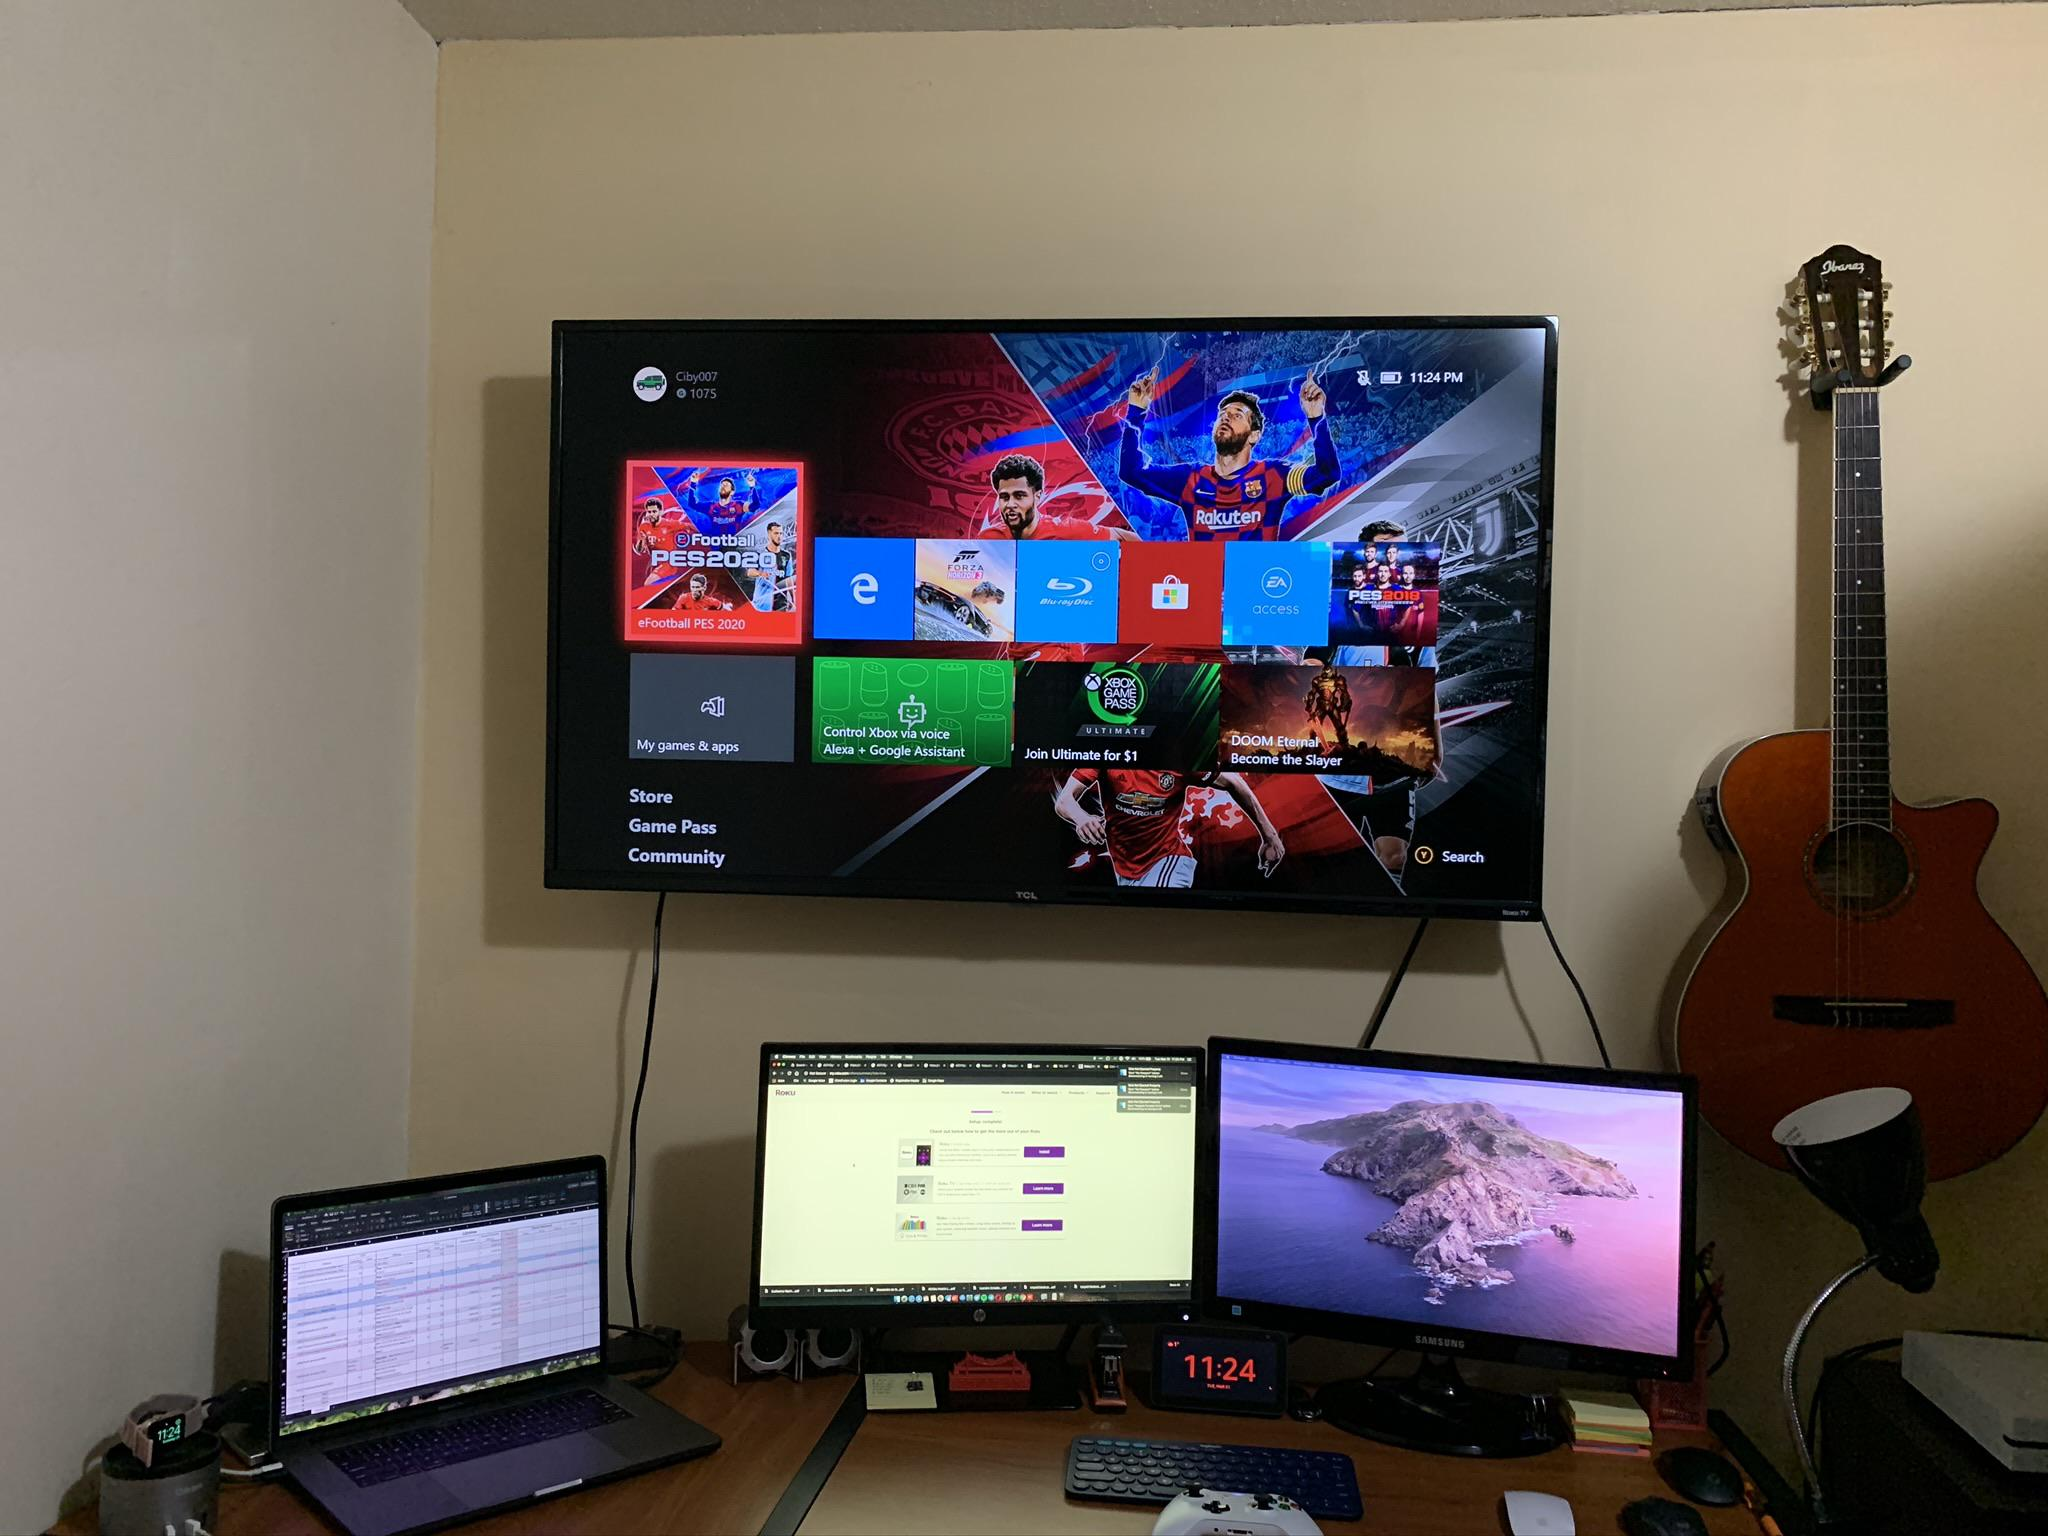Decoration (Watch): (1155, 1336, 1293, 1404), (105, 1397, 216, 1452)
Desk (Generic): (2, 1388, 1793, 1533)
External Speakers (Generic): (726, 1289, 869, 1397)
Gaming Console: (1892, 1321, 2048, 1471)
Gaming Controller: (1137, 1488, 1351, 1520)
Keyboard (Generic): (1059, 1420, 1364, 1521)
Laptop (OSX): (258, 1167, 701, 1457)
Monitor (Landscape): (1208, 1041, 1675, 1378), (768, 1049, 1193, 1320)
Mouse (Generic): (1480, 1465, 1585, 1536), (1608, 1480, 1734, 1536), (1658, 1442, 1743, 1512)
Musical Instrument (Guitar): (1659, 207, 2048, 1199)
Post-it Note: (1551, 1383, 1666, 1478), (860, 1370, 947, 1421)
USB Hub: (82, 1457, 258, 1536)
